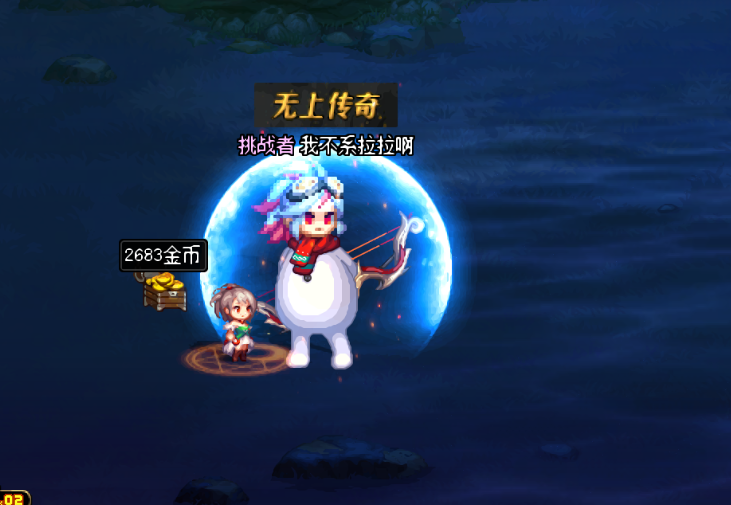role: (254, 84, 399, 127)
